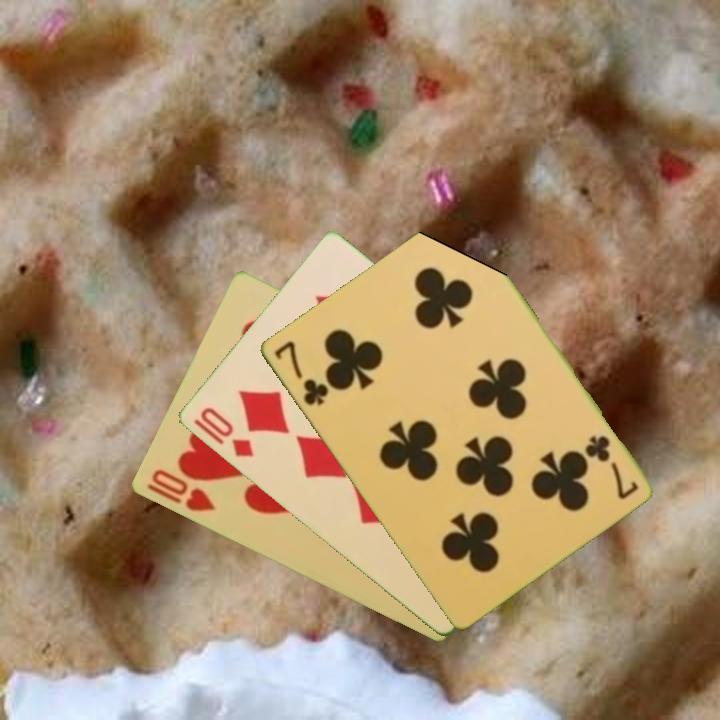10d: (189, 403, 257, 461)
10h: (143, 465, 218, 515)
7c: (270, 337, 331, 409), (582, 432, 641, 502)
